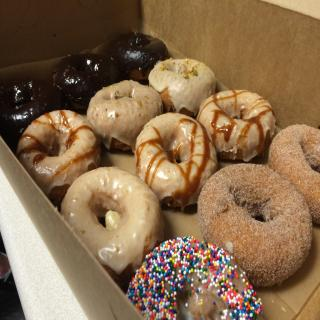Doughnut: (0, 30, 320, 320), (58, 166, 164, 284)
